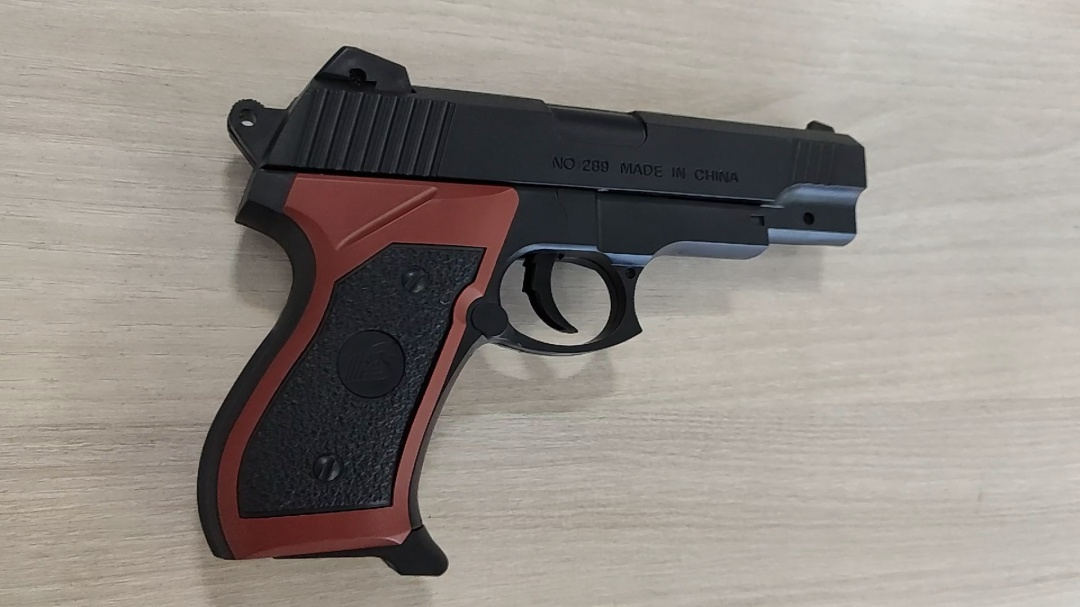gun: (341, 271, 405, 336)
